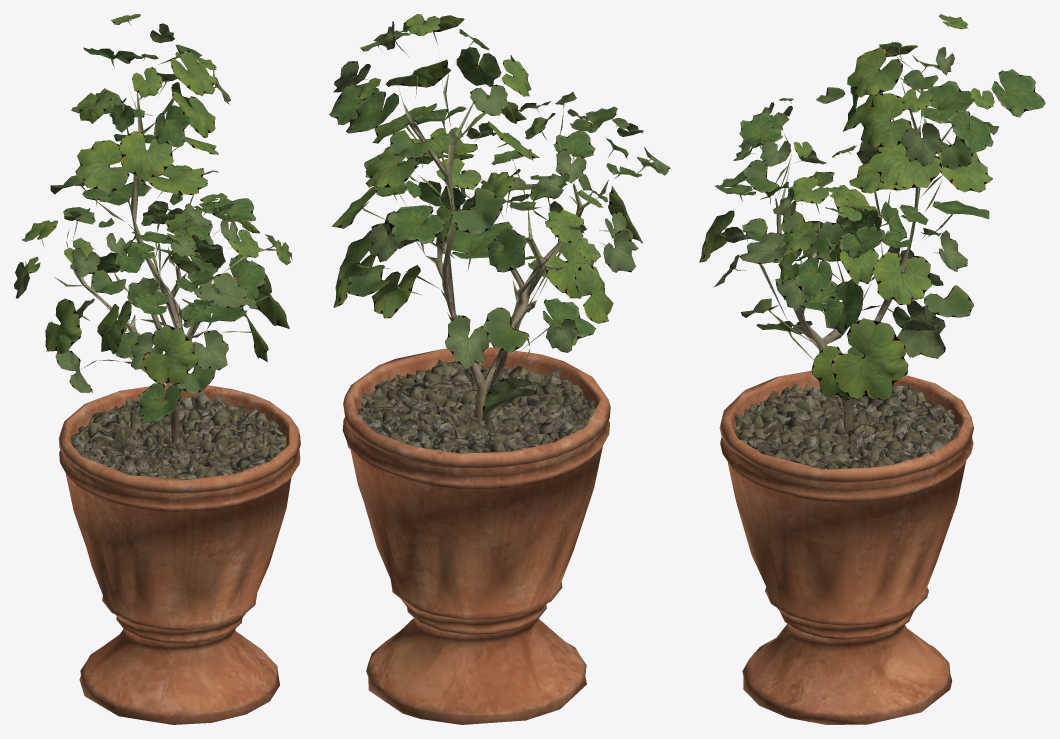
Rendered from potted_plant_01.glb.
3 renders of one model, left to right at view 1: azimuth 30°, elevation 25°; view 2: azimuth 150°, elevation 25°; view 3: azimuth 270°, elevation 25°, orthographic. The views are drawn at different scales.
Parts seen in each view (by area): view 1: potted_plant_01_stem, potted_plant_01_leaves; view 2: potted_plant_01_stem, potted_plant_01_leaves; view 3: potted_plant_01_stem, potted_plant_01_leaves.
Part boxes in pixels (x1=…): potted_plant_01_stem: x1=54, y1=90, x2=300, y2=724; potted_plant_01_leaves: x1=14, y1=14, x2=292, y2=422; potted_plant_01_stem: x1=342, y1=72, x2=610, y2=724; potted_plant_01_leaves: x1=329, y1=14, x2=670, y2=413; potted_plant_01_stem: x1=719, y1=82, x2=973, y2=724; potted_plant_01_leaves: x1=699, y1=14, x2=1045, y2=400.
Bounding box in the file's own units: 0.5866 × 1.34 × 0.6336.
2 materials, 2 textured.
